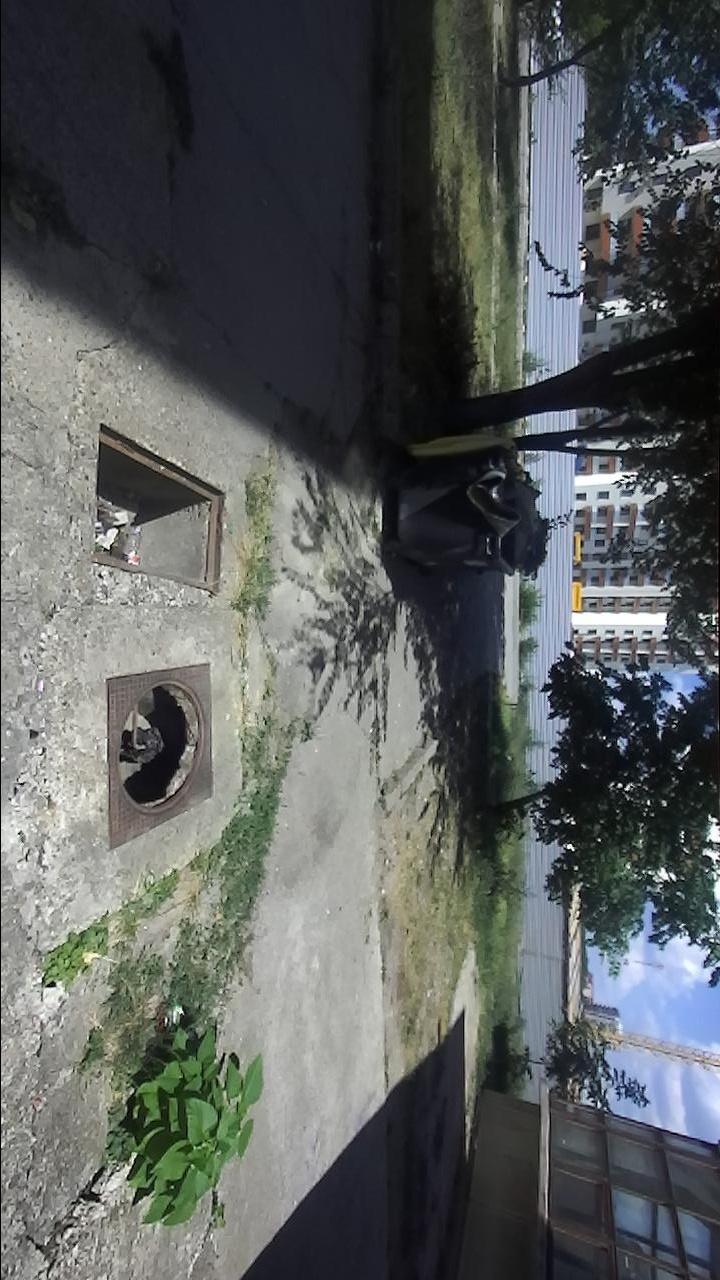drain: (91, 418, 228, 599), (112, 679, 207, 825)
